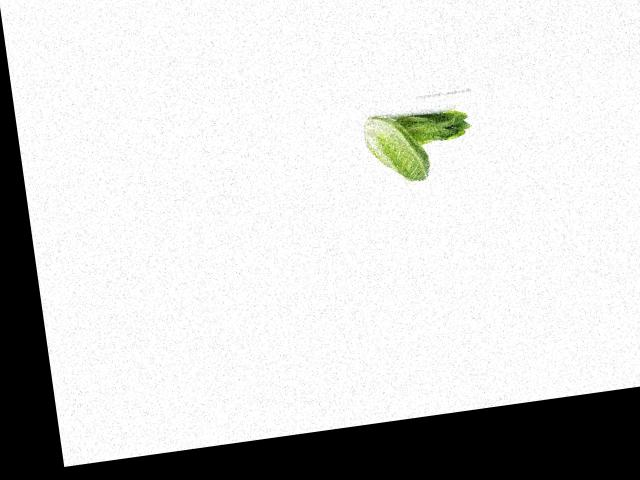lettuce: (393, 98, 472, 154)
